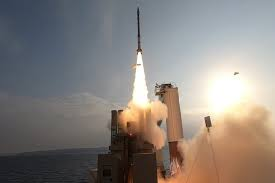ten_lua: (133, 5, 146, 56)
